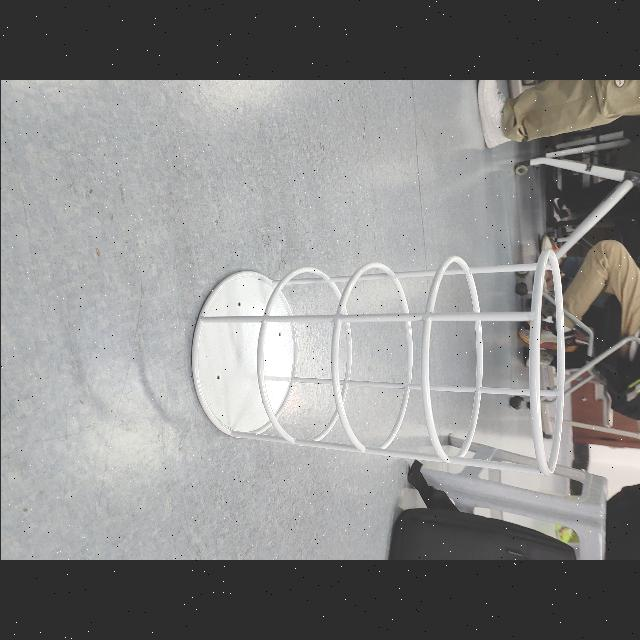S: (187, 246, 568, 478)
